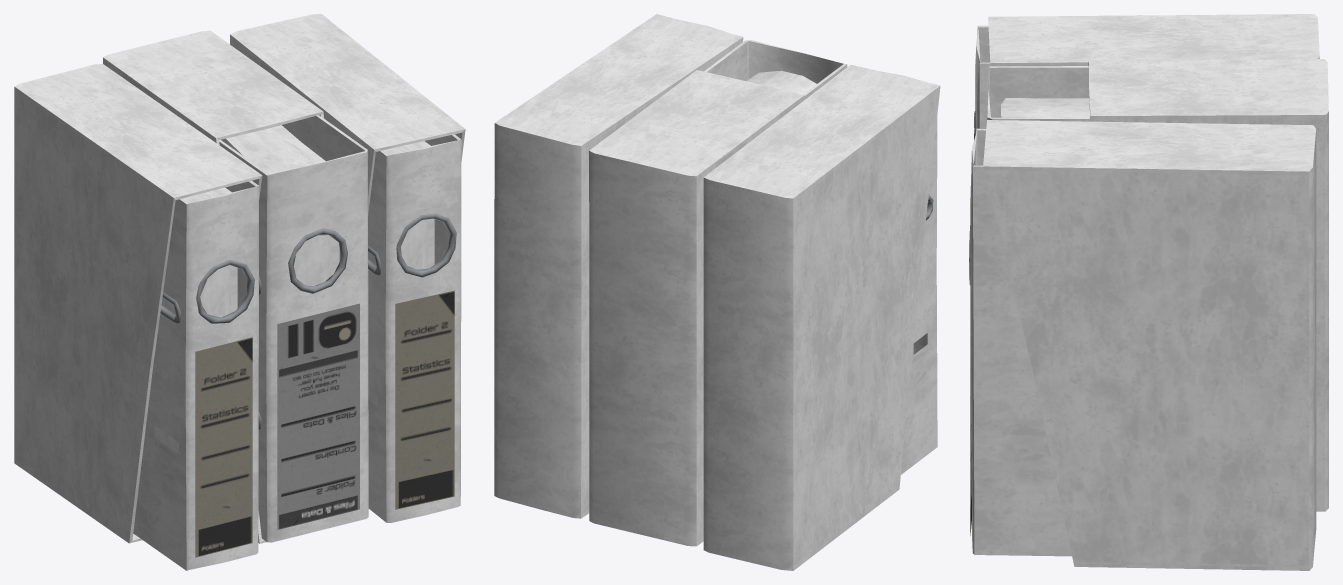
File: SM_Folder6.fbx
3 views of the same model, side by side, from view 1: azimuth 30°, elevation 25°; view 2: azimuth 150°, elevation 25°; view 3: azimuth 270°, elevation 25° (orthographic). The views are drawn at different scales.
Visible parts, largest first — view 1: SM_Folder6_LOD0; view 2: SM_Folder6_LOD0; view 3: SM_Folder6_LOD0.
Part boxes in pixels (x1=…): SM_Folder6_LOD0: x1=14, y1=14, x2=465, y2=570; SM_Folder6_LOD0: x1=494, y1=14, x2=940, y2=570; SM_Folder6_LOD0: x1=969, y1=14, x2=1328, y2=570.
Bounding box in the file's own units: 41.87 × 40.4 × 49.91.
Materials: 1 (1 with a texture image).
